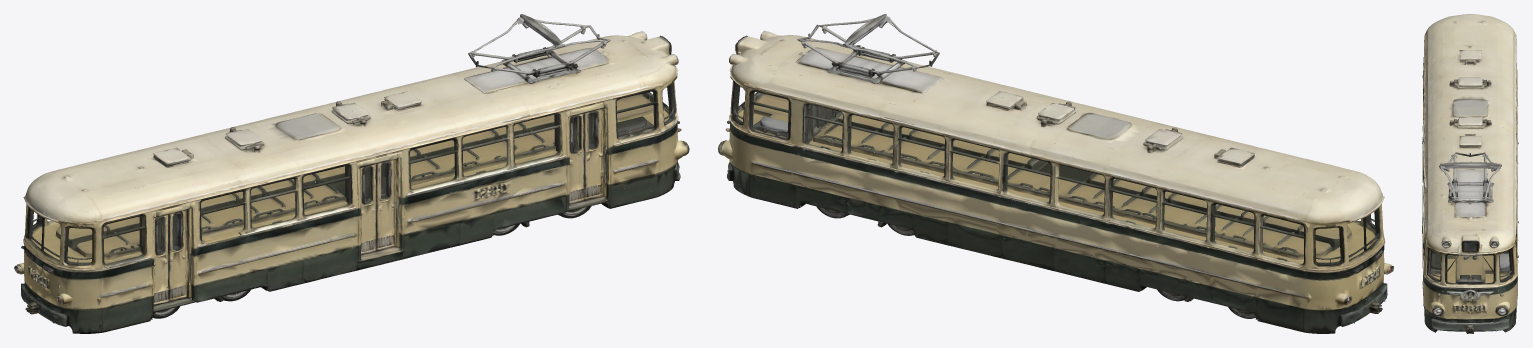
3 renders of one model, left to right at view 1: azimuth 30°, elevation 25°; view 2: azimuth 150°, elevation 25°; view 3: azimuth 270°, elevation 25°, orthographic. The views are drawn at different scales.
Parts seen in each view (by area): view 1: LM-57; view 2: LM-57; view 3: LM-57.
Part boxes in pixels (bbox=[...]): LM-57: bbox=[14, 14, 689, 333]; LM-57: bbox=[718, 14, 1393, 333]; LM-57: bbox=[1422, 14, 1518, 333].
Bounding box in the file's own units: 15 × 4 × 2.55.
Materials: 1 (1 with a texture image).
